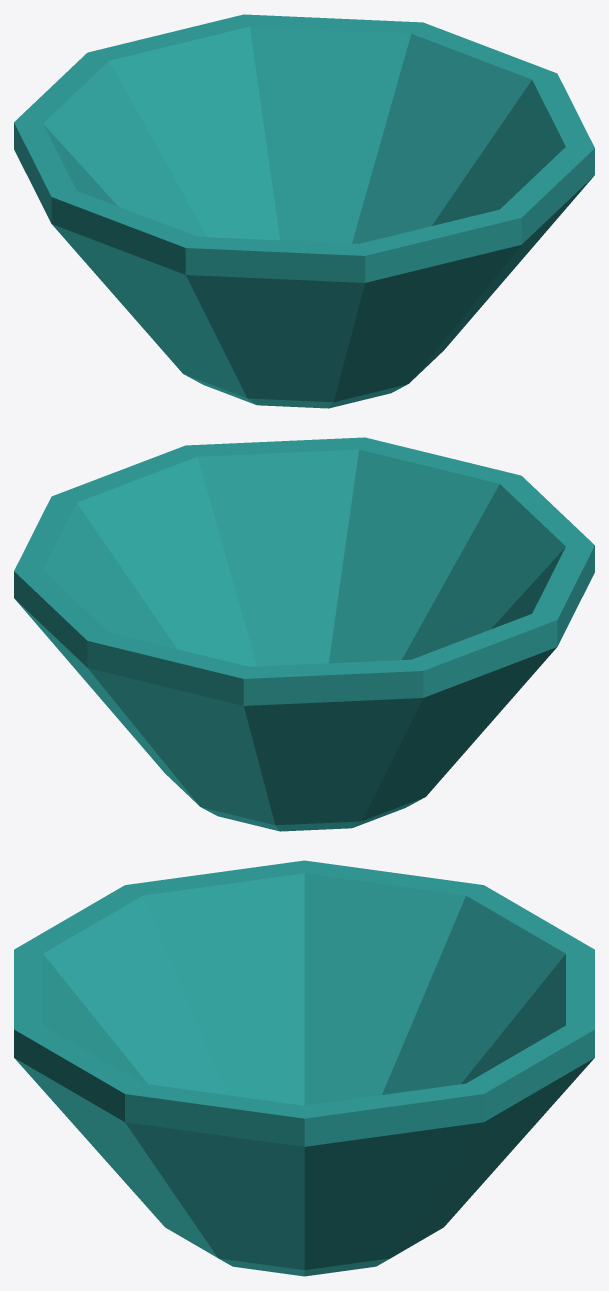
The model's file is bowl.glb.
The picture shows the model from 3 angles, top to bottom: view 1: azimuth 30°, elevation 25°; view 2: azimuth 150°, elevation 25°; view 3: azimuth 270°, elevation 25°; orthographic projection. The views are drawn at different scales.
Parts seen in each view (by area): view 1: bowl; view 2: bowl; view 3: bowl.
Boxes of the visible parts, left/top/right/bottom form: bowl: left=14, top=14, right=594, bottom=408; bowl: left=14, top=437, right=594, bottom=831; bowl: left=14, top=860, right=594, bottom=1276.
Bounding box in the file's own units: 0.2 × 0.085 × 0.1902.
